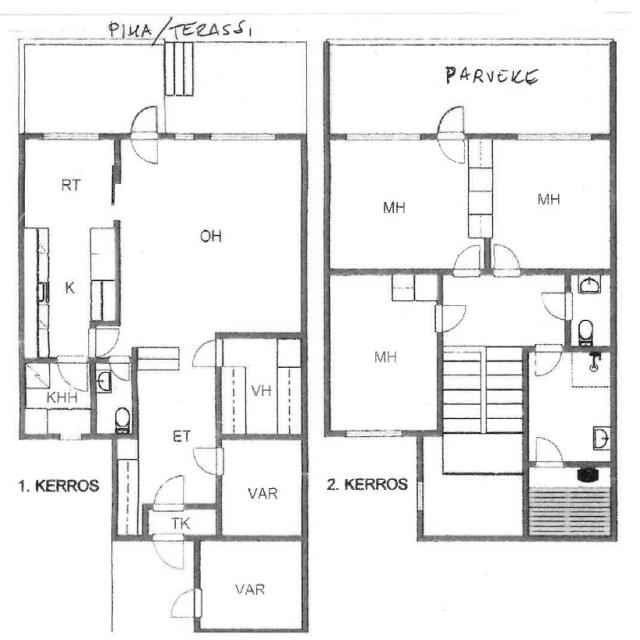door: (525, 343, 613, 462), (543, 278, 611, 339), (438, 259, 476, 342), (433, 100, 470, 170), (128, 102, 162, 168), (151, 470, 189, 511), (151, 532, 187, 574), (432, 300, 472, 336), (536, 289, 576, 325), (530, 431, 567, 469), (190, 443, 228, 479), (163, 584, 201, 620), (54, 356, 90, 393), (189, 338, 223, 374), (491, 240, 523, 278), (452, 240, 484, 277), (532, 344, 564, 380), (91, 323, 122, 359), (109, 355, 132, 384)
window: (337, 126, 427, 149), (512, 125, 596, 149), (205, 127, 285, 147), (36, 127, 104, 145), (345, 428, 405, 440), (52, 431, 86, 446), (416, 481, 424, 515)
zone: (117, 138, 310, 334), (327, 136, 489, 274), (21, 134, 118, 352), (476, 134, 616, 274), (326, 269, 443, 436), (195, 537, 308, 635), (525, 349, 614, 463), (218, 334, 306, 439), (218, 435, 306, 538), (522, 463, 616, 540), (20, 359, 94, 439), (566, 270, 615, 350), (94, 360, 134, 436), (36, 126, 104, 146)
